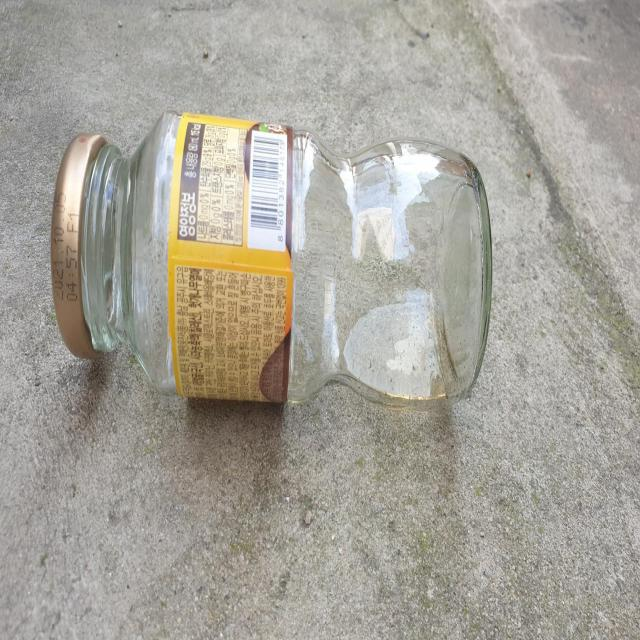glass: (50, 111, 493, 406)
